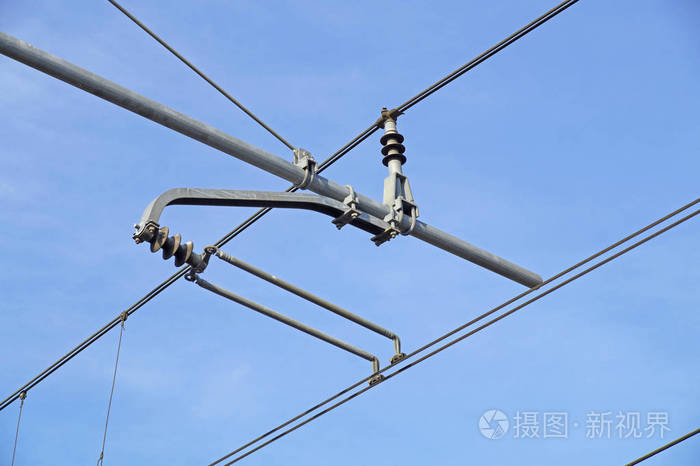insulator: (151, 224, 192, 269), (377, 130, 408, 167)
